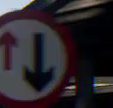Two way: (2, 8, 70, 104)
